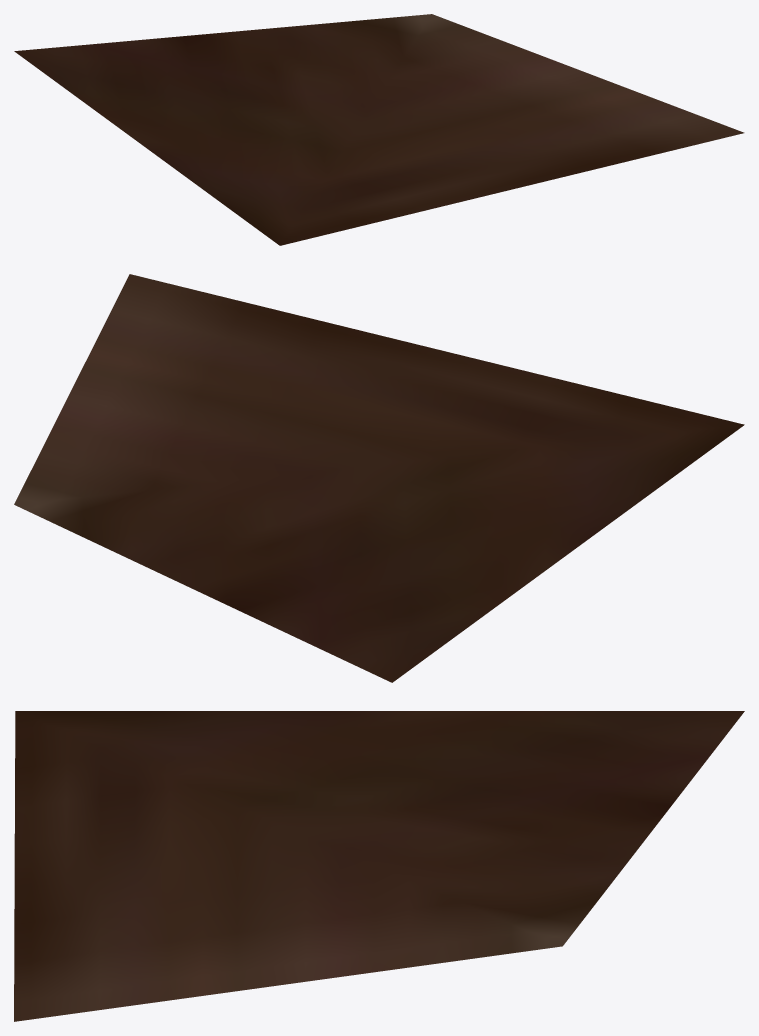
The model's file is TallWallStone_Corner_footprint.fbx.
3 views of the same model, one above another, from view 1: azimuth 30°, elevation 25°; view 2: azimuth 150°, elevation 25°; view 3: azimuth 270°, elevation 25° (orthographic). The views are drawn at different scales.
Visible parts, largest first — view 1: footprint; view 2: footprint; view 3: footprint.
Part boxes in pixels (bbox=[...]): footprint: bbox=[14, 14, 744, 245]; footprint: bbox=[14, 274, 744, 682]; footprint: bbox=[14, 711, 744, 1021].
Bounding box in the file's own units: 280 × 4.55e-05 × 278.
1 material, 1 textured.
